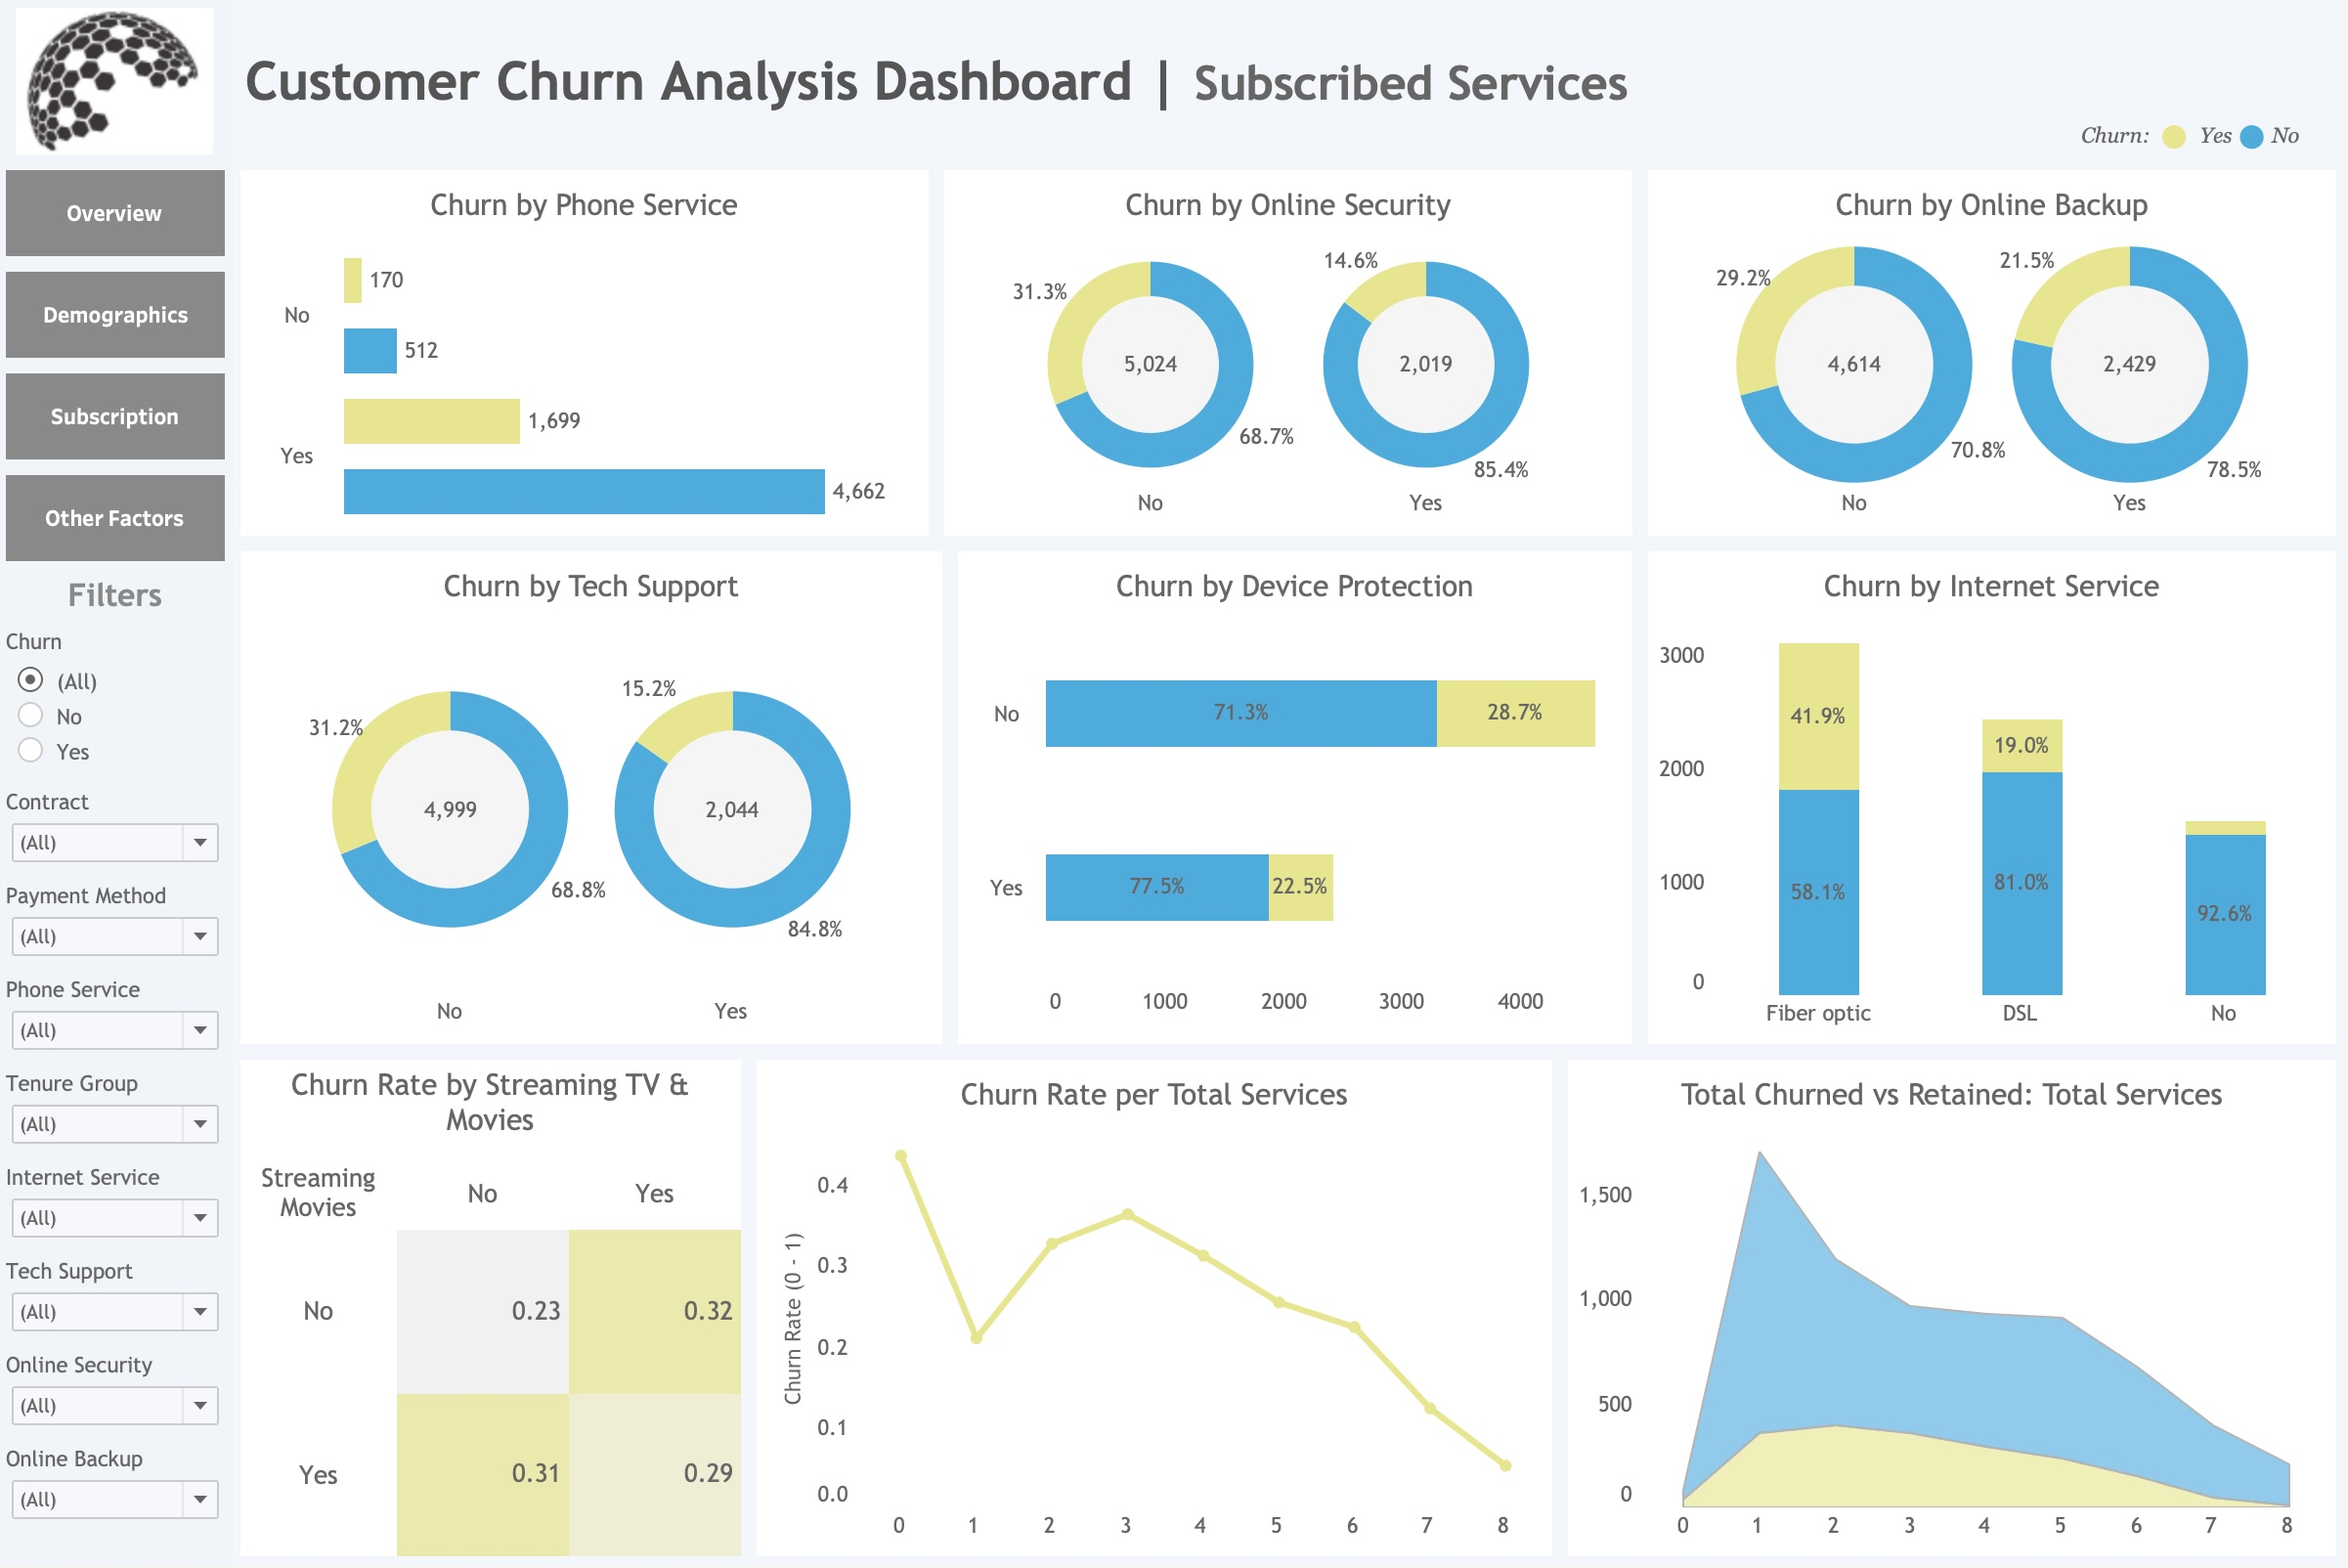

What the dashboard file says about the page in this screenshot:
{"tool":"tableau","page":{"name":"Subscribed Services","canvas":[1200,800],"ordinal":3},"visuals":[{"type":"image","param":"Image/Screenshot 2025-07-18 at 7.56.09 PM.png","box":[0,0,120,83]},{"type":"text","box":[120,0,1080,83]},{"type":"text","box":[1063,54,130,30]},{"type":"dashboard-object","box":[0,83,120,52]},{"type":"worksheet","title":"Churn by Phone Service","mark":"Automatic","rows":["PhoneService","Churn"],"cols":["customerID"],"box":[120,83,360,195]},{"type":"worksheet","title":"Churn by Online Security","mark":"Pie","rows":["Calculation_4873105934619631618","Calculation_4873105934619709444"],"cols":["OnlineSecurity"],"box":[480,83,360,195]},{"type":"worksheet","title":"Churn by Online Backup","mark":"Pie","rows":["Calculation_4873105934619631618","Calculation_4873105934619709444"],"cols":["OnlineBackup"],"box":[840,83,360,195]},{"type":"dashboard-object","box":[0,135,120,52]},{"type":"dashboard-object","box":[0,187,120,52]},{"type":"dashboard-object","box":[0,239,120,52]},{"type":"worksheet","title":"Churn by Tech Support","mark":"Pie","rows":["Calculation_4873105934619631618","Calculation_4873105934619709444"],"cols":["TechSupport"],"box":[120,278,367,260]},{"type":"worksheet","title":"Churn by Device Protection","mark":"Automatic","rows":["DeviceProtection"],"cols":["customerID"],"box":[487,278,353,260]},{"type":"worksheet","title":"Churn by Internet Service","mark":"Automatic","rows":["customerID"],"cols":["InternetService"],"box":[840,278,360,260]},{"type":"text","box":[0,291,120,27]},{"type":"filter","title":"Churn by Phone Service","param":"[federated.00i3pks088phsx120ps0f1dvn0i1].[none:Churn:nk]","box":[0,318,120,82]},{"type":"filter","title":"Churn by Phone Service","param":"[federated.00i3pks088phsx120ps0f1dvn0i1].[none:Contract:nk]","box":[0,400,120,48]},{"type":"filter","title":"Churn by Phone Service","param":"[federated.00i3pks088phsx120ps0f1dvn0i1].[none:PaymentMethod:nk]","box":[0,448,120,48]},{"type":"filter","title":"Churn by Phone Service","param":"[federated.00i3pks088phsx120ps0f1dvn0i1].[none:PhoneService:nk]","box":[0,496,120,48]},{"type":"worksheet","title":"Churn Rate by Streaming TV & Movies","mark":"Square","rows":["StreamingMovies"],"cols":["StreamingTV"],"box":[120,538,264,262]},{"type":"worksheet","title":"Churn Rate per Total Services","mark":"Line","rows":["Calculation_2054767361538183170"],"cols":["Calculation_1960473245427531779"],"box":[384,538,414.9,262]},{"type":"worksheet","title":"Total Churned vs Retained: Total Services","mark":"Area","rows":["customerID"],"cols":["Calculation_1960473245427531779"],"box":[798.9,538,400.9,262]},{"type":"filter","title":"Churn by Phone Service","param":"[federated.00i3pks088phsx120ps0f1dvn0i1].[none:Calculation_2054767361529266176:n","box":[0,544,120,48]},{"type":"filter","title":"Churn by Internet Service","param":"[federated.00i3pks088phsx120ps0f1dvn0i1].[none:InternetService:nk]","box":[0,592,120,48]},{"type":"filter","title":"Churn by Tech Support","param":"[federated.00i3pks088phsx120ps0f1dvn0i1].[none:TechSupport:nk]","box":[0,640,120,48]},{"type":"filter","title":"Churn by Online Security","param":"[federated.00i3pks088phsx120ps0f1dvn0i1].[none:OnlineSecurity:nk]","box":[0,688,120,48]},{"type":"filter","title":"Churn by Online Backup","param":"[federated.00i3pks088phsx120ps0f1dvn0i1].[none:OnlineBackup:nk]","box":[0,736,120,48]}]}

Visuals, with their boxes in screenshot pixels (x1, y1, x2, y2), scaled from the page's 1200x800 canvas onto the 2348x1568 screenshot:
image: <box>0,0,235,162</box>
text: <box>235,0,2347,162</box>
text: <box>2080,106,2334,164</box>
dashboard-object: <box>0,162,235,265</box>
"Churn by Phone Service" worksheet: <box>235,162,939,544</box>
"Churn by Online Security" worksheet (Pie marks): <box>939,162,1643,544</box>
"Churn by Online Backup" worksheet (Pie marks): <box>1643,162,2347,544</box>
dashboard-object: <box>0,265,235,367</box>
dashboard-object: <box>0,367,235,468</box>
dashboard-object: <box>0,468,235,570</box>
"Churn by Tech Support" worksheet (Pie marks): <box>235,544,953,1055</box>
"Churn by Device Protection" worksheet: <box>953,544,1643,1055</box>
"Churn by Internet Service" worksheet: <box>1643,544,2347,1055</box>
text: <box>0,570,235,624</box>
"Churn by Phone Service" filter: <box>0,624,235,784</box>
"Churn by Phone Service" filter: <box>0,784,235,878</box>
"Churn by Phone Service" filter: <box>0,878,235,972</box>
"Churn by Phone Service" filter: <box>0,972,235,1067</box>
"Churn Rate by Streaming TV & Movies" worksheet (Square marks): <box>235,1055,752,1567</box>
"Churn Rate per Total Services" worksheet (Line marks): <box>752,1055,1563,1567</box>
"Total Churned vs Retained: Total Services" worksheet (Area marks): <box>1563,1055,2347,1567</box>
"Churn by Phone Service" filter: <box>0,1067,235,1160</box>
"Churn by Internet Service" filter: <box>0,1160,235,1254</box>
"Churn by Tech Support" filter: <box>0,1254,235,1348</box>
"Churn by Online Security" filter: <box>0,1348,235,1443</box>
"Churn by Online Backup" filter: <box>0,1443,235,1537</box>
